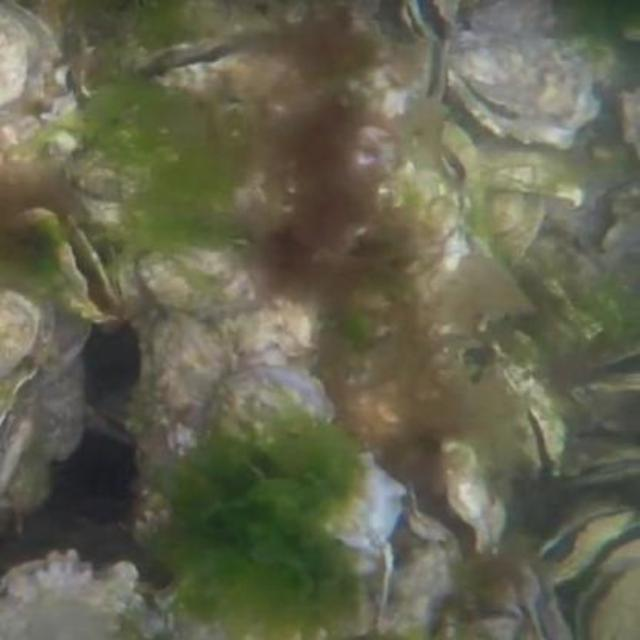Oyster-Closed: (128, 311, 222, 539), (0, 551, 140, 638), (212, 369, 330, 453), (139, 241, 253, 324), (441, 438, 504, 557), (379, 537, 453, 638), (371, 165, 463, 235), (232, 298, 323, 364), (543, 437, 638, 490), (480, 189, 543, 268), (606, 185, 638, 261), (618, 83, 638, 151)
Oyster-Open: (446, 35, 599, 141), (151, 25, 301, 103), (46, 212, 127, 327), (0, 0, 64, 143), (497, 346, 565, 478), (531, 508, 638, 584), (557, 339, 638, 436), (0, 282, 53, 418), (579, 542, 638, 638)
